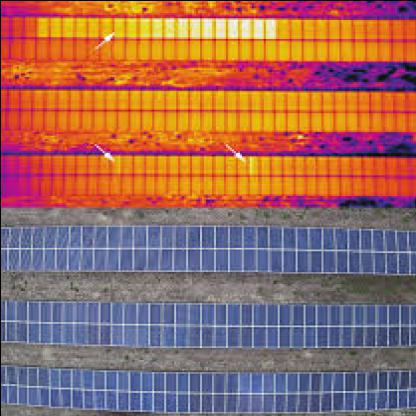Defects: (217, 18, 271, 38)
